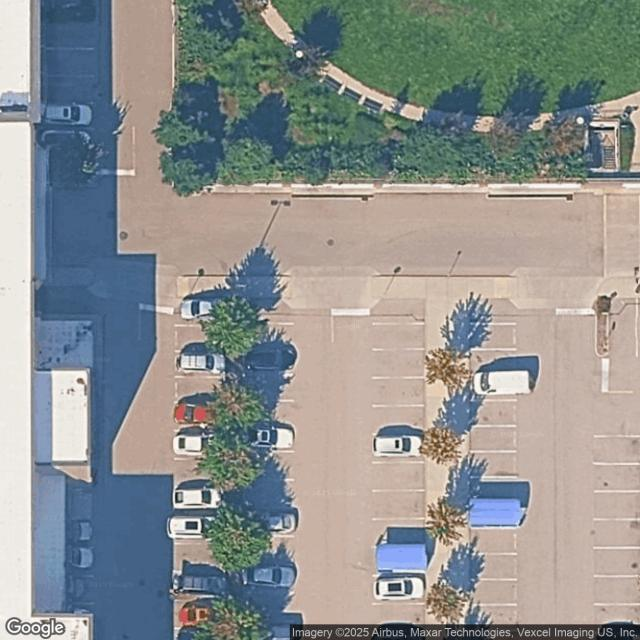car: (240, 507, 298, 534), (474, 369, 534, 395), (165, 513, 224, 539), (374, 574, 426, 603), (241, 563, 296, 590), (41, 100, 93, 127), (242, 425, 296, 451), (174, 572, 230, 597), (172, 486, 224, 512), (243, 347, 294, 373), (180, 600, 229, 627), (371, 434, 424, 458), (174, 432, 224, 457), (241, 619, 299, 640), (178, 352, 228, 375), (175, 401, 222, 425), (40, 128, 93, 148), (179, 298, 224, 319), (44, 0, 91, 18), (175, 624, 221, 640), (67, 546, 96, 570), (66, 575, 92, 600), (67, 524, 96, 544)
lot_boundary: (39, 0, 639, 639)
objects: (426, 299, 466, 639), (227, 300, 240, 640), (466, 498, 526, 527), (374, 543, 427, 573)
stall: (240, 504, 293, 537), (240, 563, 294, 593), (42, 19, 92, 49), (42, 48, 92, 77), (373, 378, 423, 406), (373, 463, 423, 491), (374, 405, 424, 433), (374, 434, 424, 462), (467, 527, 517, 555), (468, 578, 518, 606), (174, 326, 227, 352), (174, 350, 227, 376), (174, 403, 227, 429), (174, 432, 227, 458), (173, 458, 226, 484), (174, 487, 227, 513), (174, 600, 227, 626), (174, 300, 227, 326), (373, 298, 424, 325), (374, 350, 423, 378), (468, 605, 517, 633), (174, 377, 226, 403), (173, 572, 225, 598), (173, 544, 225, 570), (172, 517, 224, 543), (242, 400, 294, 426), (242, 375, 294, 401), (242, 348, 294, 374), (242, 324, 294, 350), (242, 299, 294, 325), (241, 478, 293, 504), (242, 426, 294, 452), (240, 592, 292, 618), (240, 536, 292, 562), (374, 491, 424, 518), (375, 576, 425, 603), (594, 518, 640, 547), (42, 76, 93, 102), (469, 399, 518, 426), (468, 553, 517, 580), (595, 491, 640, 520), (374, 324, 424, 350), (467, 324, 517, 350), (467, 298, 517, 324), (242, 454, 294, 479), (469, 425, 518, 451), (469, 374, 518, 400), (373, 519, 426, 543), (595, 436, 640, 464), (595, 548, 640, 576), (595, 576, 640, 604), (42, 101, 92, 126), (469, 452, 518, 477), (595, 604, 640, 631), (595, 464, 640, 491), (468, 350, 518, 374), (240, 617, 292, 640), (468, 477, 518, 499), (42, 0, 94, 21), (40, 125, 91, 145), (66, 545, 94, 577), (375, 605, 425, 622), (375, 625, 426, 640), (173, 627, 227, 640), (66, 522, 95, 545), (66, 577, 95, 600)
